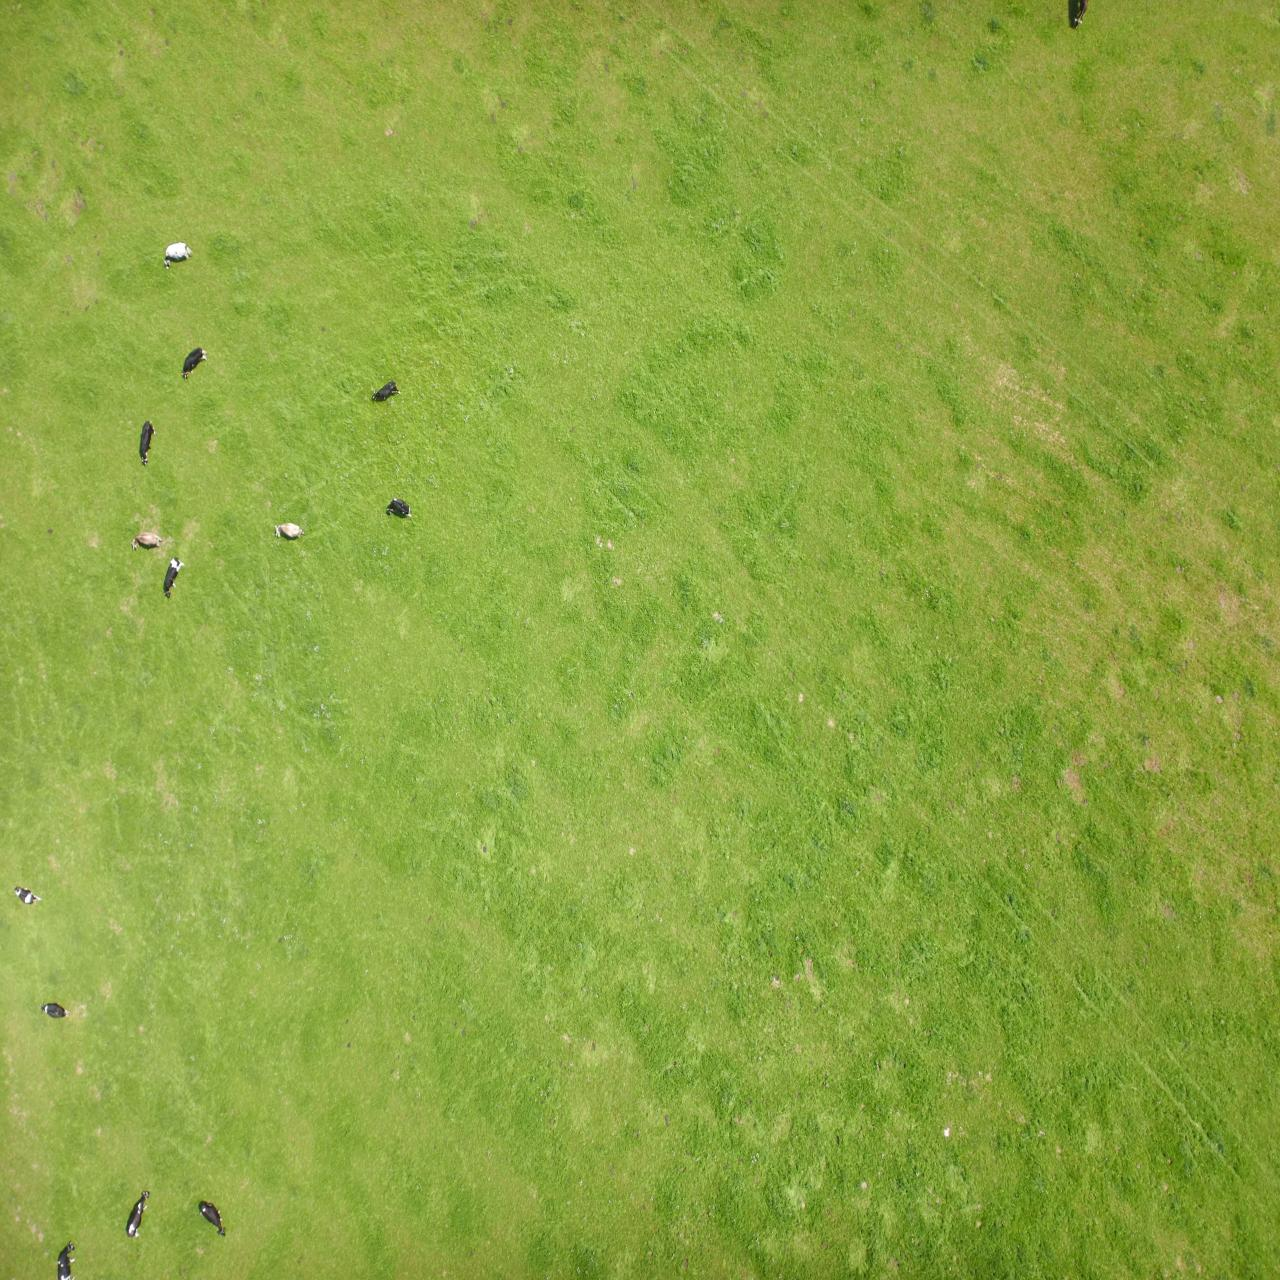cow: (1130, 41, 1155, 90), (1054, 42, 1081, 80), (1095, 681, 1117, 722), (1073, 901, 1098, 932), (1088, 1010, 1116, 1037), (1124, 815, 1141, 859), (879, 879, 907, 899), (1211, 261, 1239, 280), (1238, 375, 1266, 394), (1117, 730, 1149, 747), (975, 741, 1006, 757), (869, 763, 893, 782)
